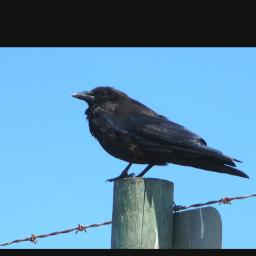Crow: (69, 85, 252, 183)
